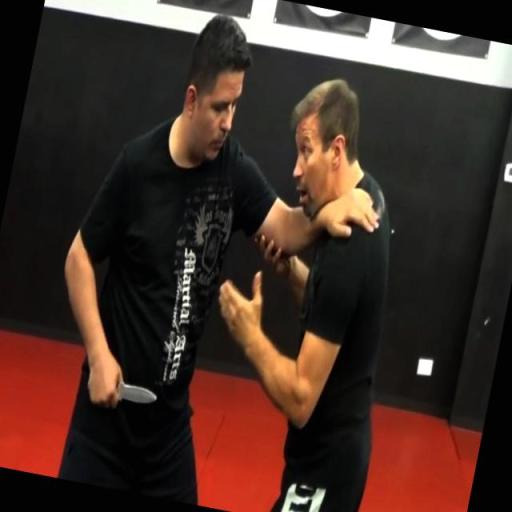knife: (80, 365, 167, 418)
